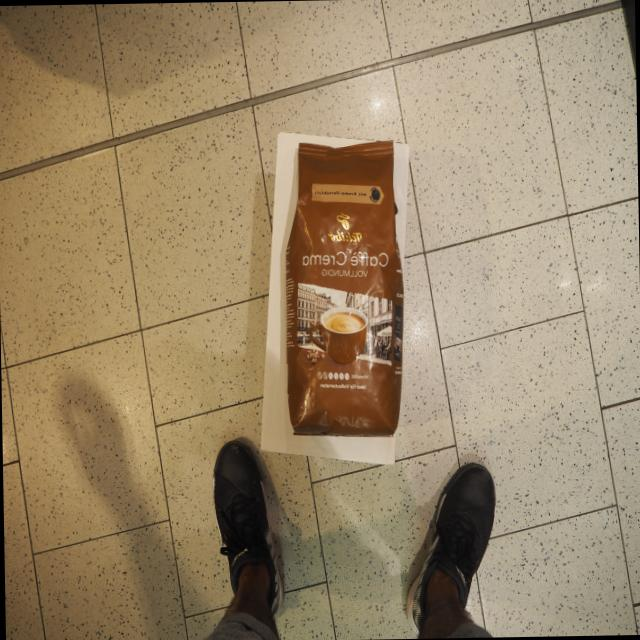CC Vollmundig 36 Pads: (280, 137, 408, 438)
